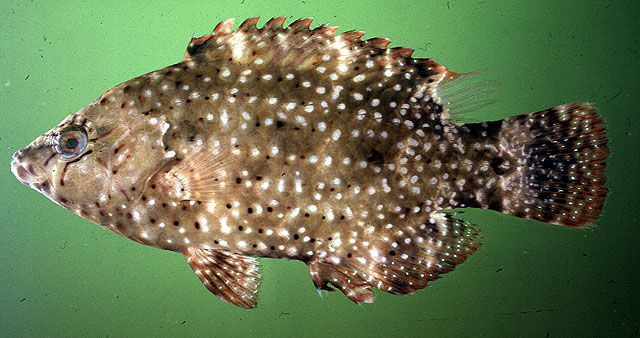fish: (11, 16, 611, 308)
